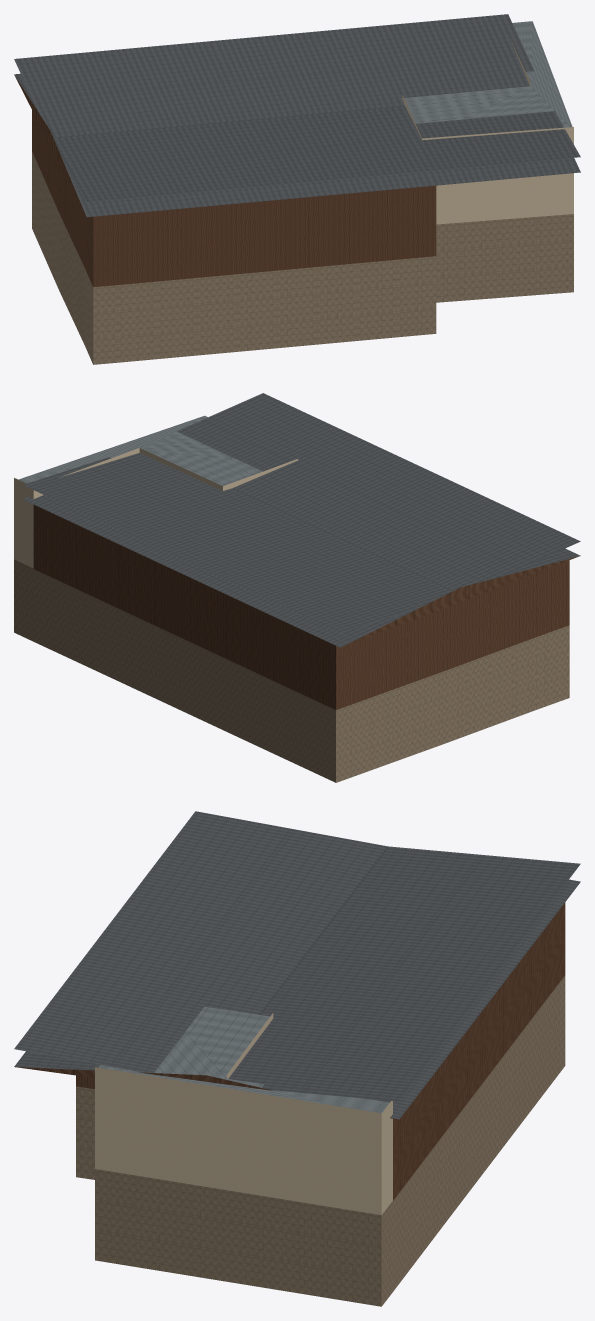
The model's file is bld_c23_44_386.gltf.
3 renders of one model, top to bottom at view 1: azimuth 30°, elevation 25°; view 2: azimuth 150°, elevation 25°; view 3: azimuth 270°, elevation 25°, orthographic. The views are drawn at different scales.
Parts seen in each view (by area): view 1: bld_c23_44_386; view 2: bld_c23_44_386; view 3: bld_c23_44_386.
Part boxes in pixels (left/top/right/bottom): bld_c23_44_386: left=14, top=14, right=580, bottom=364; bld_c23_44_386: left=14, top=393, right=580, bottom=782; bld_c23_44_386: left=14, top=811, right=580, bottom=1306.
Bounding box in the file's own units: 35.86 × 10.9 × 28.64.
7 materials, 7 textured.
